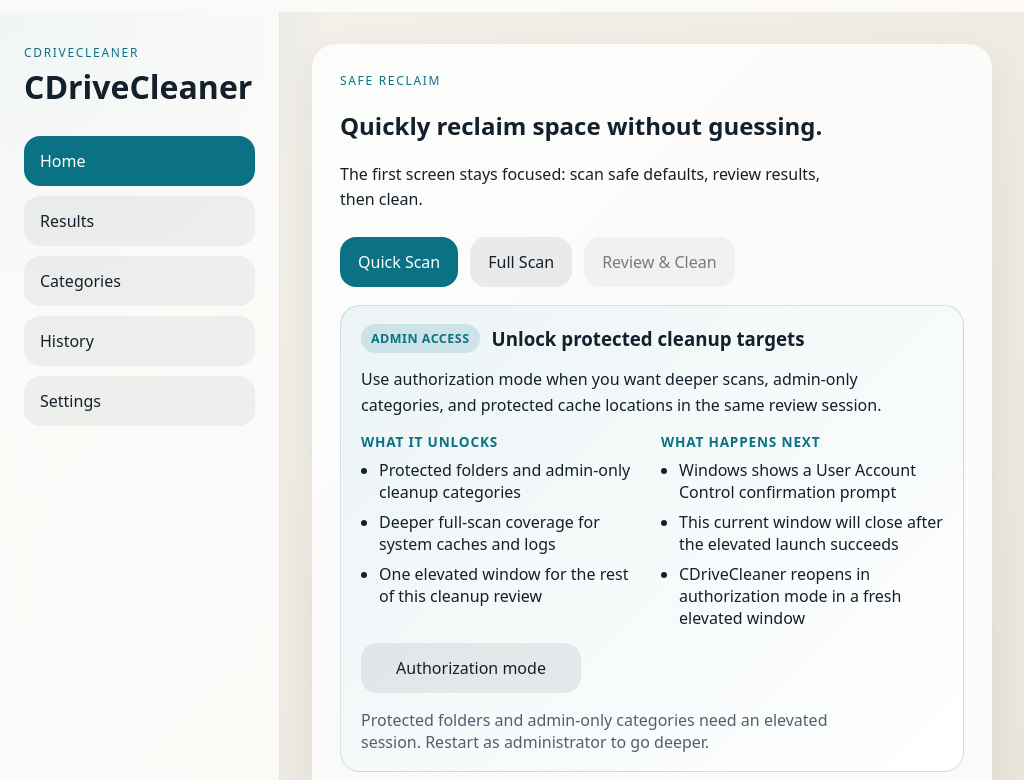
Test: desktop-trigger clean flow › applies a persisted non-default list sort preference on initial results render
Click the button "Quick Scan".
click(399, 262)  # box [340,237,458,287]
(page scrolled)
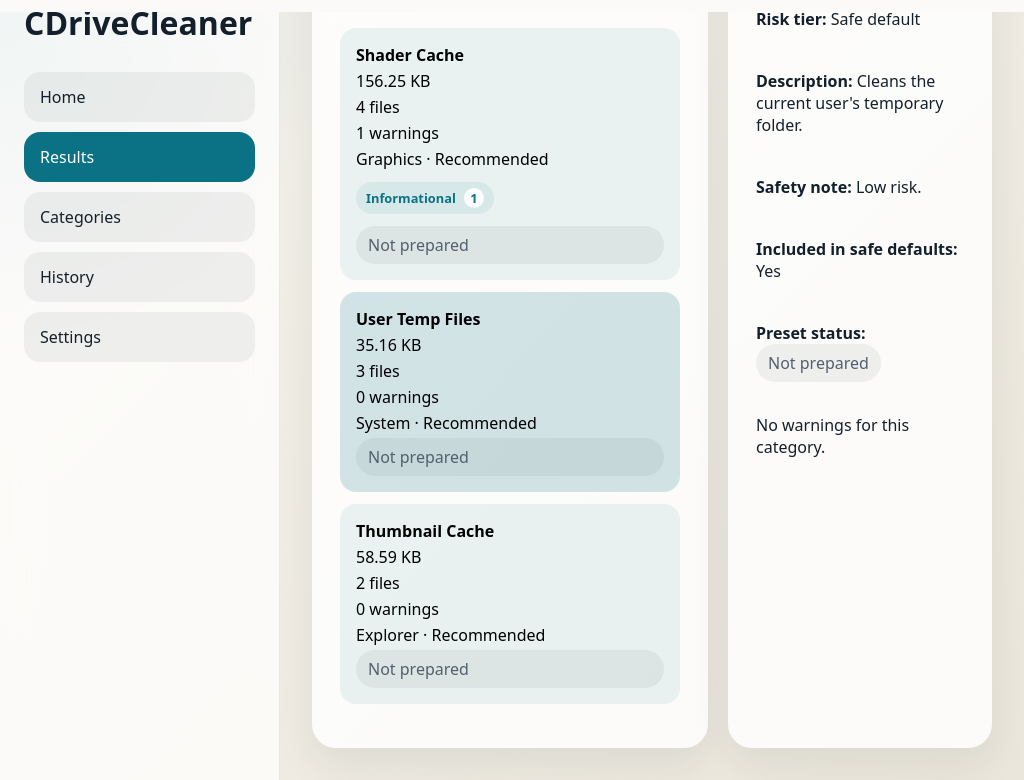
Now the button that starts with "Shader Cache" is shown, box [340,28,680,280]
Now the button that starts with "User Temp Files" is shown, box [340,292,680,492]
Now the button that starts with "Thumbnail Cache" is shown, box [340,504,680,704]
